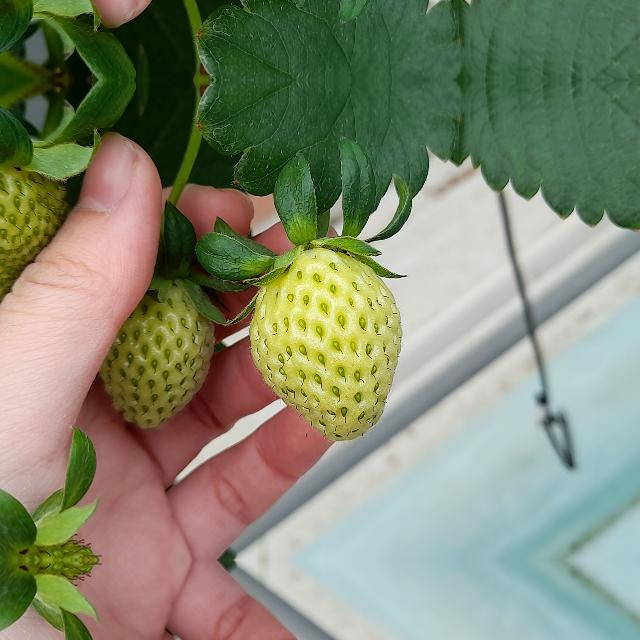Health_25: (248, 247, 402, 441), (86, 270, 220, 432), (0, 154, 76, 292)
